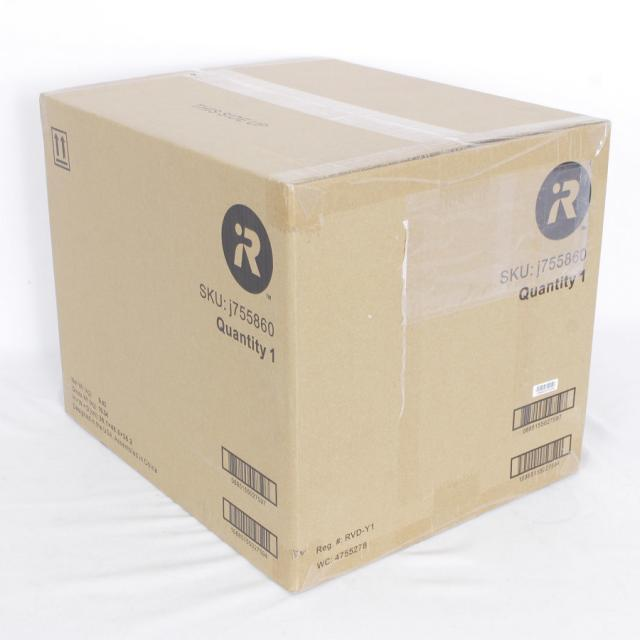-: (33, 47, 625, 599)
